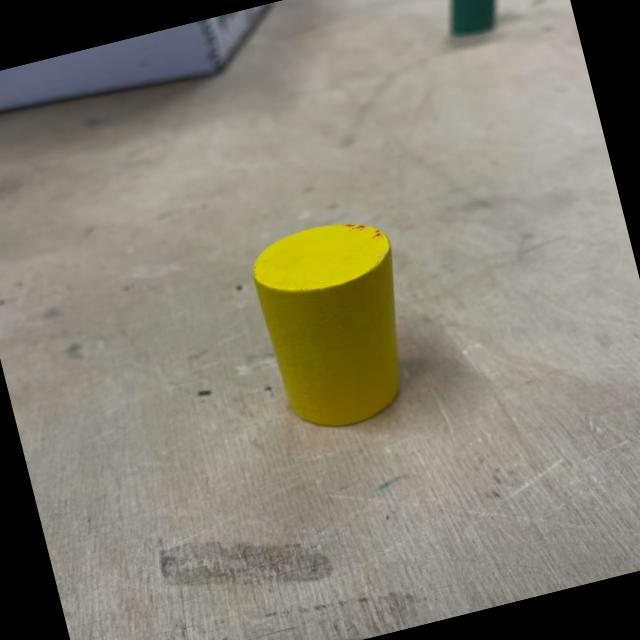yellow_cylinder: (242, 206, 433, 442)
